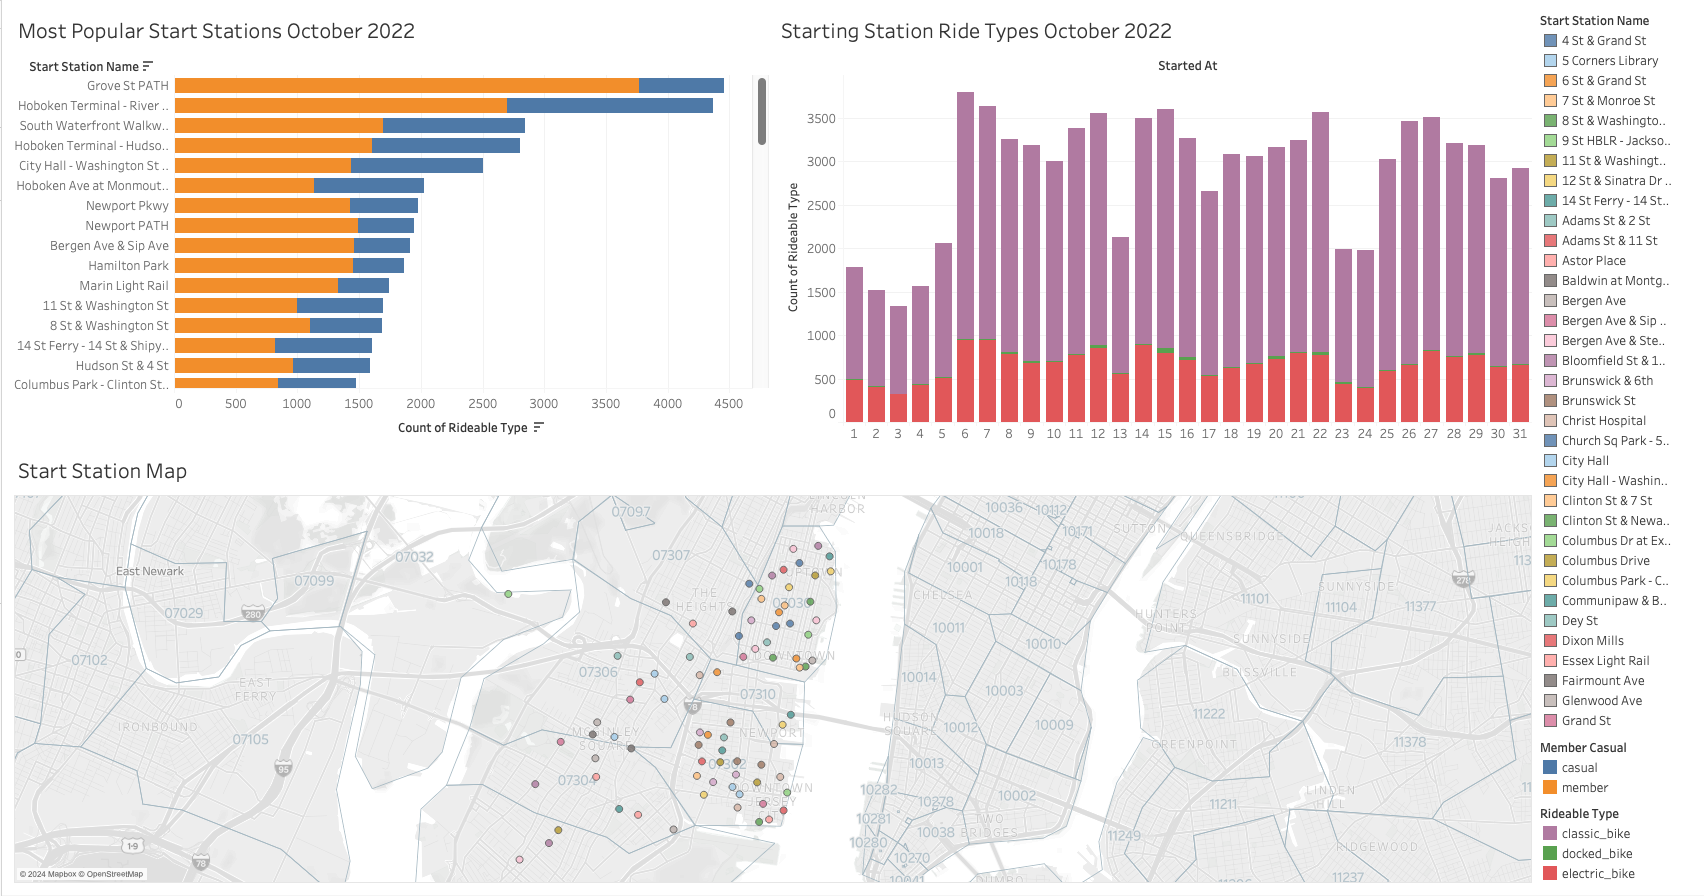

What the dashboard file says about the page in this screenshot:
{"tool":"tableau","page":{"name":"Dashboard 1","canvas":[1000,1000],"units":"permille","ordinal":0},"visuals":[{"type":"worksheet","title":"Most Popular Start Stations","mark":"Automatic","rows":["start_station_name"],"cols":["rideable_type"],"box":[4.7,8.9,448.3,491.1]},{"type":"worksheet","title":"Starting Station Ride Types","mark":"Bar","rows":["rideable_type"],"cols":["started_at"],"box":[453,8.9,448.3,491.1]},{"type":"legend","title":"Start Station Map","param":"[federated.06pw2351kulswb16xbtzn0ywro1a].[none:start_station_name:nk]","box":[901.3,8.9,94,812.3]},{"type":"worksheet","title":"Start Station Map","mark":"Multipolygon","rows":["start_lat"],"cols":["start_lng"],"box":[4.7,500,896.6,491.1]},{"type":"legend","title":"Most Popular Start Stations","param":"[federated.06pw2351kulswb16xbtzn0ywro1a].[none:member_casual:nk]","box":[901.3,821.2,94,73.7]},{"type":"legend","title":"Starting Station Ride Types","param":"[federated.06pw2351kulswb16xbtzn0ywro1a].[none:rideable_type:nk]","box":[901.3,895,94,96.1]}]}

Visuals, with their boxes on the dashboard's canvas, which has no fixed pixel size, in thousandths of its width and height (x1, y1, x2, y2). These are canvas units, not pixel positions in the 1704x896 screenshot, which may show the page scaled, cropped or inside an application window:
"Most Popular Start Stations" worksheet: locate(5, 9, 453, 500)
"Starting Station Ride Types" worksheet (Bar marks): locate(453, 9, 901, 500)
"Start Station Map" legend: locate(901, 9, 995, 821)
"Start Station Map" worksheet (Multipolygon marks): locate(5, 500, 901, 991)
"Most Popular Start Stations" legend: locate(901, 821, 995, 895)
"Starting Station Ride Types" legend: locate(901, 895, 995, 991)
